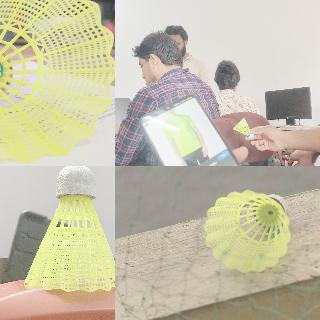shuttlecock: (0, 0, 114, 163), (24, 166, 114, 292), (204, 189, 290, 271), (232, 117, 254, 139)
